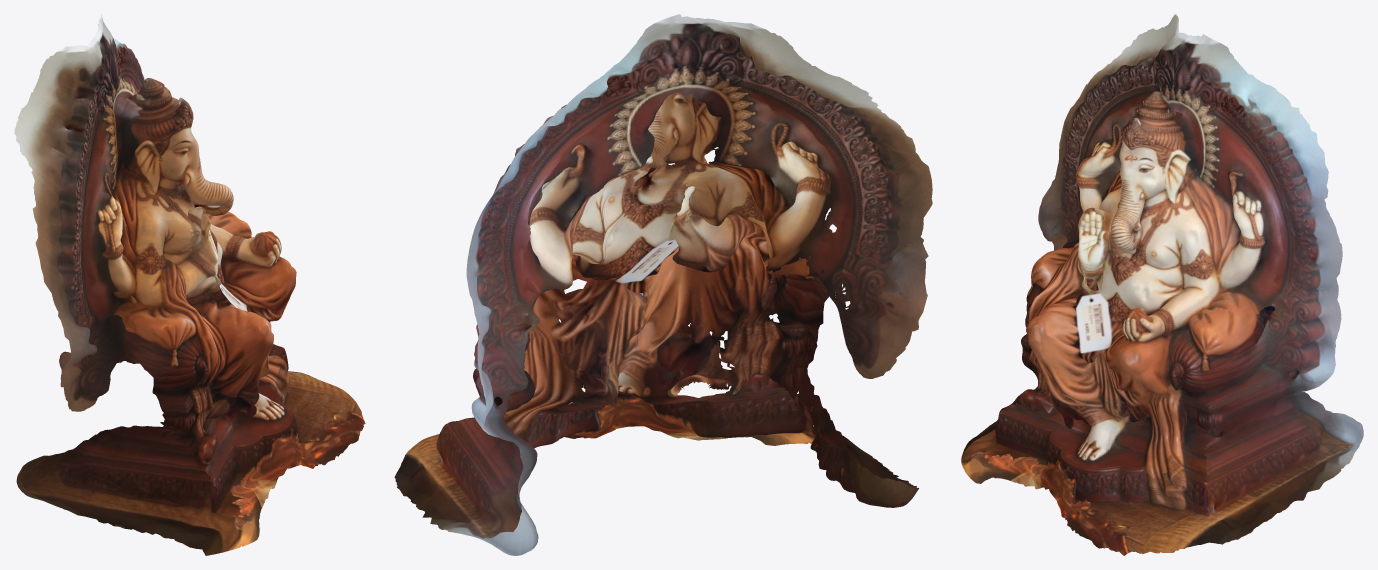
Rendered from white_ganesh.glb.
The picture shows the model from 3 angles, left to right: view 1: azimuth 30°, elevation 25°; view 2: azimuth 150°, elevation 25°; view 3: azimuth 270°, elevation 25°; orthographic projection. The views are drawn at different scales.
Visible parts, largest first — view 1: Object_2, Object_3; view 2: Object_2, Object_3; view 3: Object_2, Object_3.
Boxes of the visible parts, box(x1,y1,x2,y2) form: Object_2: box(14, 14, 365, 555); Object_3: box(54, 78, 314, 520); Object_2: box(394, 14, 932, 555); Object_3: box(415, 56, 872, 480); Object_2: box(961, 14, 1363, 555); Object_3: box(1010, 56, 1274, 525).
Bounding box in the file's own units: 1.28 × 1.48 × 1.25.
1 material, 1 textured.
